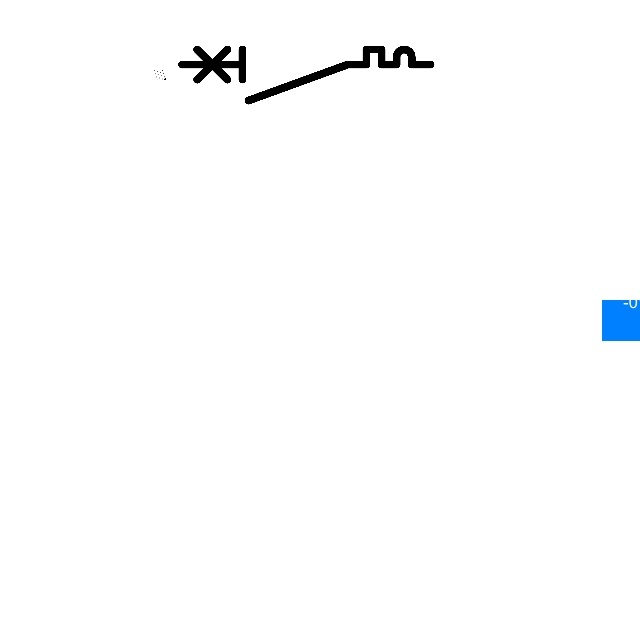interruptor_termomagnetico: (175, 43, 437, 107)
